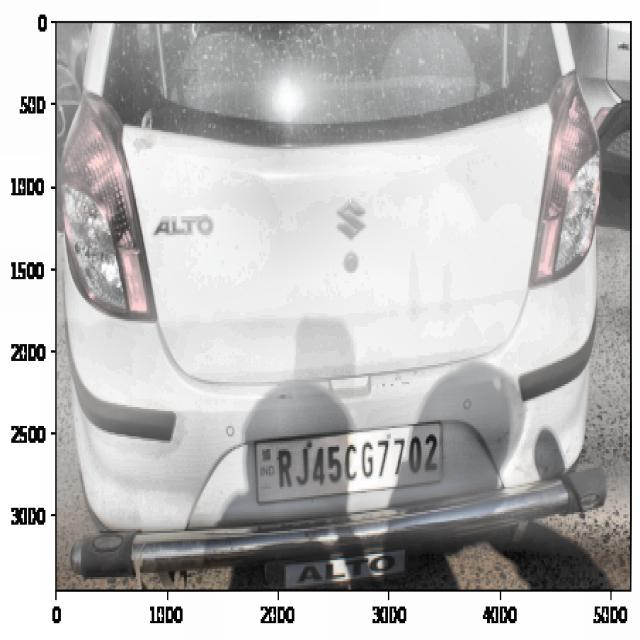license_plate: (273, 427, 442, 490)
